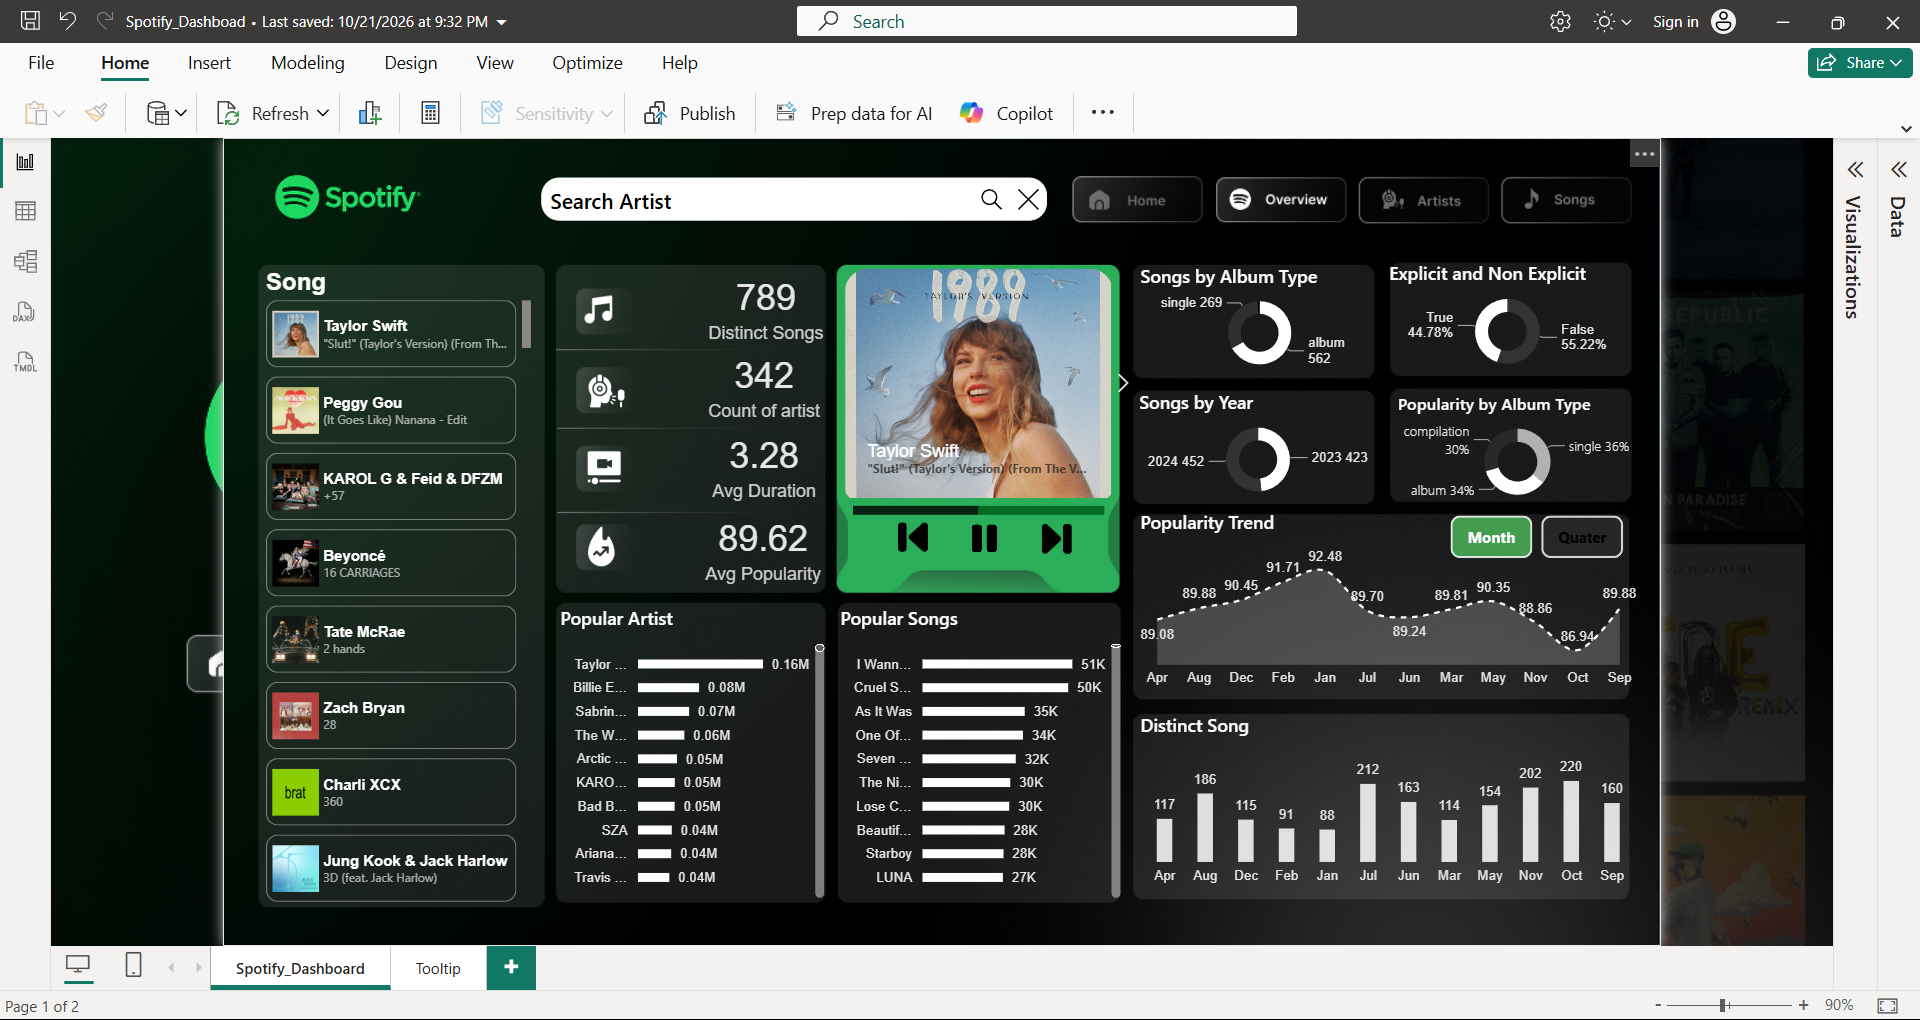

This screenshot's page, from the dashboard's own definition file:
{"tool":"powerbi","page":{"name":"Spotify_Dashboard","canvas":[1280,720],"ordinal":0},"visuals":[{"type":"card","fields":{"Values":["_Measures.Distinct Songs"]},"box":[406.5,126.9,102.1,60.5],"z":0,"group":"g1"},{"type":"actionButton","box":[223.7,426.3,115.8,44.5],"z":0},{"type":"card","fields":{"Values":["Count(Top-50-world.artist)"]},"box":[407.3,190.4,104.8,60.5],"z":1000,"group":"g1"},{"type":"actionButton","box":[352.9,428.6,116.9,42.3],"z":1000},{"type":"card","fields":{"Values":["_Measures.Avg Duration Minutes"]},"box":[407.3,251.4,103.4,61.9],"z":2000,"group":"g1"},{"type":"actionButton","box":[480,430,116,41.3],"z":2000},{"type":"actionButton","box":[62.7,206.3,576.7,153.2],"z":3000},{"type":"card","fields":{"Values":["_Measures.Avg Popularity"]},"box":[405.3,313.5,106.1,60.5],"z":3000,"group":"g1"},{"type":"shape","box":[8.9,0,1271.2,719.1],"z":4000},{"type":"image","box":[286.6,134.7,53,41.3],"z":4000,"group":"g1"},{"type":"image","box":[295,313.4,54.4,52.3],"z":5000,"group":"g1"},{"type":"image","box":[289.3,196.5,61.2,48.4],"z":6000,"group":"g1"},{"type":"image","box":[286.1,259.5,58.4,48.1],"z":7000,"group":"g1"},{"type":"image","box":[8.9,0,1271.2,709.1],"z":32000},{"type":"actionButton","box":[753.2,35.2,117.5,42.6],"z":33000},{"type":"actionButton","box":[881.3,33.2,116.7,41.9],"z":34000},{"type":"actionButton","box":[1137.9,34.5,116.6,41.7],"z":35000},{"type":"clusteredBarChart","title":" Popular Song","fields":{"Category":["Top-50-world.song"],"Y":["Sum(Top-50-world.popularity)"]},"box":[768.4,115.4,224.7,261.9],"z":36000},{"type":"clusteredBarChart","title":"Popular Artist","fields":{"Category":["Top-50-world.artist"],"Y":["Sum(Top-50-world.popularity)"]},"box":[526.4,115.7,228.4,263.2],"z":37000},{"type":"hundredPercentStackedBarChart","fields":{"Y":["_Measures.Avg Popularity","Avg(Top-50-world.popularity)"]},"box":[1036,281.4,200,54.7],"z":38000},{"type":"image","box":[1115.8,322.1,40.4,29.9],"z":39000},{"type":"image","box":[1180.4,322.2,40.1,30.1],"z":40000},{"type":"image","box":[1026,320.6,91.2,29.9],"z":41000},{"type":"advancedSlicerVisual","title":"Song","fields":{"Label":["_Measures.Distinct Artists"],"Values":["Top-50-world.song"]},"box":[996.5,111.6,280.2,188.4],"z":42000},{"type":"lineChart","title":"Artists Overview","fields":{"Category":["Top-50-world.Month","Top-50-world.artist"],"Y":["Avg(Top-50-world.duration_ms)"],"Y2":["_Measures.Avg Popularity"]},"box":[582.7,402,672.4,292.1],"z":43000},{"type":"shape","box":[1009.3,110.5,245.3,266.3],"z":44000},{"type":"actionButton","box":[46.2,34.1,149.6,49.5],"z":45000},{"type":"group","id":"g1","title":"Group 1","box":[286.1,126.9,226,247.1],"z":53000},{"type":"advancedSlicerVisual","title":"Song ","fields":{"Label":["_Measures.Distinct Artists"],"Values":["Top-50-world.song"]},"box":[33.4,115.8,246.7,573.3],"z":83000},{"type":"textSearchSlicerF85E2E78BE4A4D7D9F99ED75B5D71C85","fields":{"fields":["Top-50-world.artist"]},"box":[273.6,25.7,470.2,55.2],"z":84000},{"type":"shape","box":[525,111.7,115,36.7],"z":88000},{"type":"shape","box":[768.3,115,115,36.7],"z":89000},{"type":"shape","box":[1099,224.1,178.6,36.2],"z":90000},{"type":"shape","box":[816.7,511.7,118.3,31.7],"z":95000},{"type":"shape","box":[816.7,330,131.7,33.3],"z":96000},{"type":"funnel","title":"Song Genre","fields":{"Category":["Top-50-world.genre"],"Y":["CountNonNull(Top-50-world.song)"]},"box":[295,401.9,281.6,286.1],"z":97000},{"type":"actionButton","box":[572.6,402,170.6,43.4],"z":102000},{"type":"shape","box":[282,393.3,179.3,36.2],"z":112000}]}

Visuals, with their boxes on the page's 1280x720 design canvas (x1, y1, x2, y2). These are canvas units, not pixel positions in the 1920x1020 screenshot, which may show the page scaled, cropped or inside an application window:
card - _Measures.Distinct Songs: [left=406, top=127, right=509, bottom=187]
actionButton: [left=224, top=426, right=340, bottom=471]
card - Count(Top-50-world.artist): [left=407, top=190, right=512, bottom=251]
actionButton: [left=353, top=429, right=470, bottom=471]
card - _Measures.Avg Duration Minutes: [left=407, top=251, right=511, bottom=313]
actionButton: [left=480, top=430, right=596, bottom=471]
actionButton: [left=63, top=206, right=639, bottom=360]
card - _Measures.Avg Popularity: [left=405, top=314, right=511, bottom=374]
shape: [left=9, top=0, right=1280, bottom=719]
image: [left=287, top=135, right=340, bottom=176]
image: [left=295, top=313, right=349, bottom=366]
image: [left=289, top=196, right=350, bottom=245]
image: [left=286, top=260, right=344, bottom=308]
image: [left=9, top=0, right=1280, bottom=709]
actionButton: [left=753, top=35, right=871, bottom=78]
actionButton: [left=881, top=33, right=998, bottom=75]
actionButton: [left=1138, top=34, right=1254, bottom=76]
" Popular Song" clusteredBarChart: [left=768, top=115, right=993, bottom=377]
"Popular Artist" clusteredBarChart: [left=526, top=116, right=755, bottom=379]
hundredPercentStackedBarChart - _Measures.Avg Popularity x Avg(Top-50-world.popularity): [left=1036, top=281, right=1236, bottom=336]
image: [left=1116, top=322, right=1156, bottom=352]
image: [left=1180, top=322, right=1220, bottom=352]
image: [left=1026, top=321, right=1117, bottom=350]
"Song" advancedSlicerVisual: [left=996, top=112, right=1277, bottom=300]
"Artists Overview" lineChart: [left=583, top=402, right=1255, bottom=694]
shape: [left=1009, top=110, right=1255, bottom=377]
actionButton: [left=46, top=34, right=196, bottom=84]
"Group 1" group: [left=286, top=127, right=512, bottom=374]
"Song " advancedSlicerVisual: [left=33, top=116, right=280, bottom=689]
textSearchSlicerF85E2E78BE4A4D7D9F99ED75B5D71C85 - Top-50-world.artist: [left=274, top=26, right=744, bottom=81]
shape: [left=525, top=112, right=640, bottom=148]
shape: [left=768, top=115, right=883, bottom=152]
shape: [left=1099, top=224, right=1278, bottom=260]
shape: [left=817, top=512, right=935, bottom=543]
shape: [left=817, top=330, right=948, bottom=363]
"Song Genre" funnel: [left=295, top=402, right=577, bottom=688]
actionButton: [left=573, top=402, right=743, bottom=445]
shape: [left=282, top=393, right=461, bottom=430]
